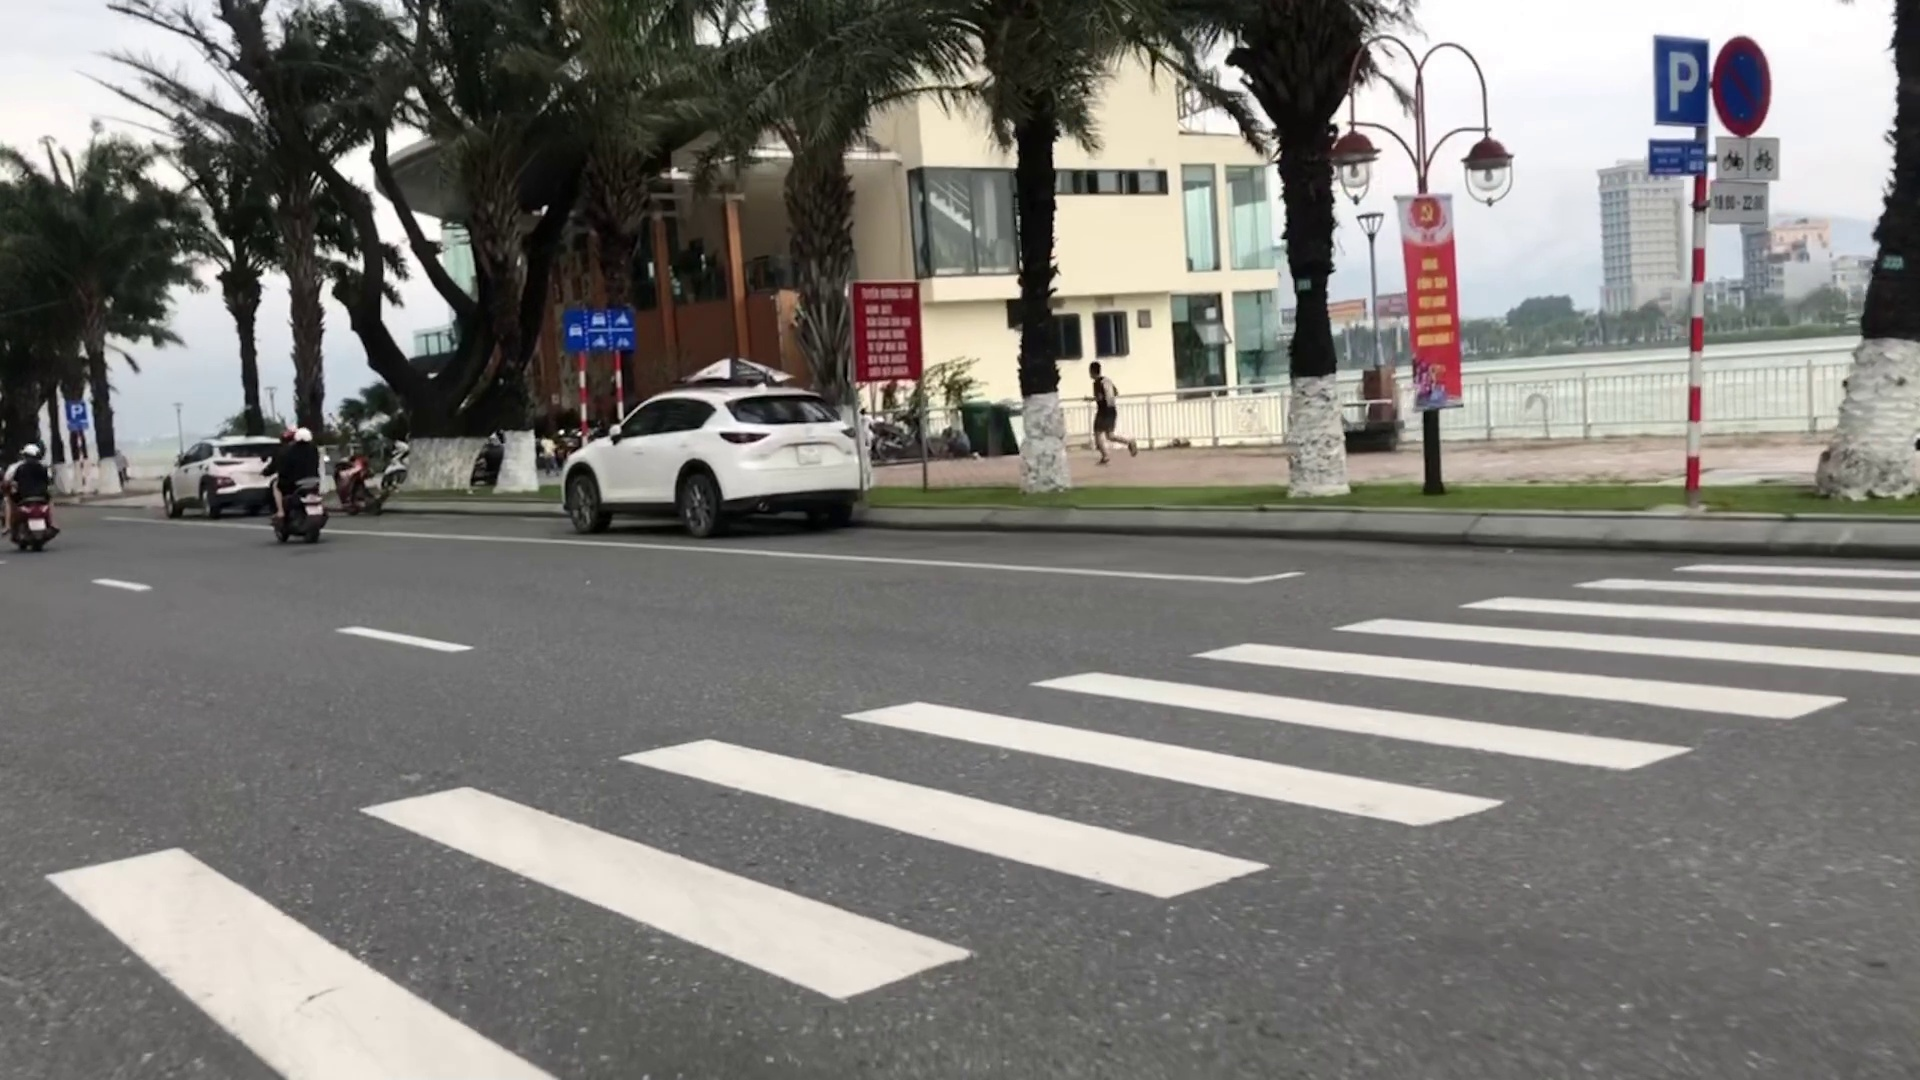Bien khac: (1648, 30, 1713, 132), (61, 398, 88, 425)
Cam do xe: (1713, 36, 1768, 138)
